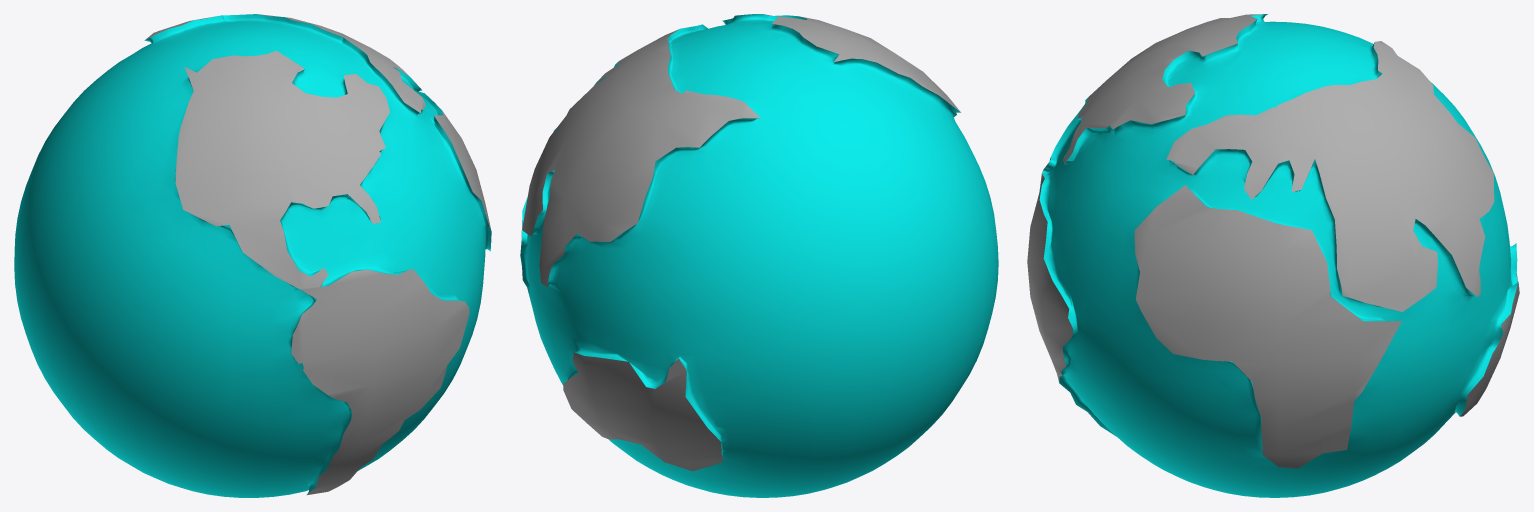
File: globe.fbx
The picture shows the model from 3 angles, left to right: view 1: azimuth 30°, elevation 25°; view 2: azimuth 150°, elevation 25°; view 3: azimuth 270°, elevation 25°; orthographic projection.
Parts seen in each view (by area): view 1: globe; view 2: globe; view 3: globe.
Boxes of the visible parts, x1=… form: globe: x1=14, y1=14, x2=491, y2=497; globe: x1=520, y1=14, x2=998, y2=497; globe: x1=1027, y1=14, x2=1519, y2=497.
Size of the model in its own units: 13.32 by 13.36 by 13.61.
